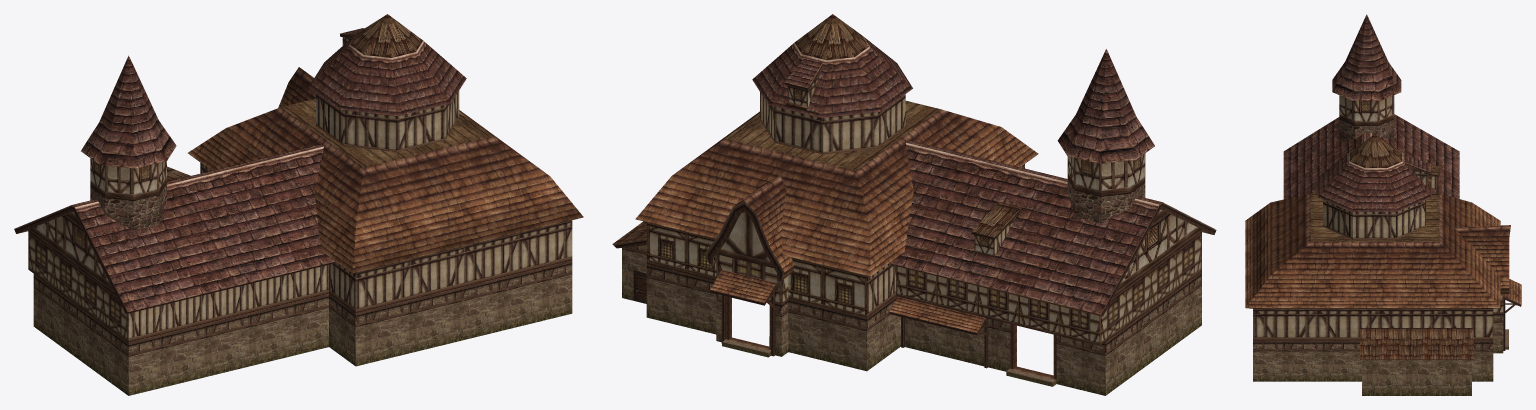
Rendered from ti_agit.glb.
3 renders of one model, left to right at view 1: azimuth 30°, elevation 25°; view 2: azimuth 150°, elevation 25°; view 3: azimuth 270°, elevation 25°, orthographic. The views are drawn at different scales.
Parts seen in each view (by area): view 1: TI_Agit; view 2: TI_Agit; view 3: TI_Agit.
Boxes of the visible parts, x1,y1,x2,y2 form: TI_Agit: (14, 14, 583, 395); TI_Agit: (612, 14, 1216, 395); TI_Agit: (1245, 14, 1521, 395).
Size of the model in its own units: 8.88 by 5.31 by 5.84.
28 materials, 28 textured.
